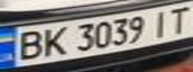0: (93, 18, 115, 50)
3: (72, 20, 96, 52), (109, 16, 133, 46)
9: (127, 12, 151, 43)
B: (9, 28, 48, 62)
I: (145, 7, 175, 38)
K: (36, 25, 72, 57)
T: (163, 3, 193, 34)
